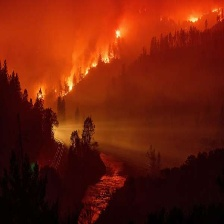fire: (61, 53, 110, 96), (187, 13, 203, 24), (34, 86, 43, 101), (115, 27, 124, 40)
smoke: (5, 5, 180, 49)
